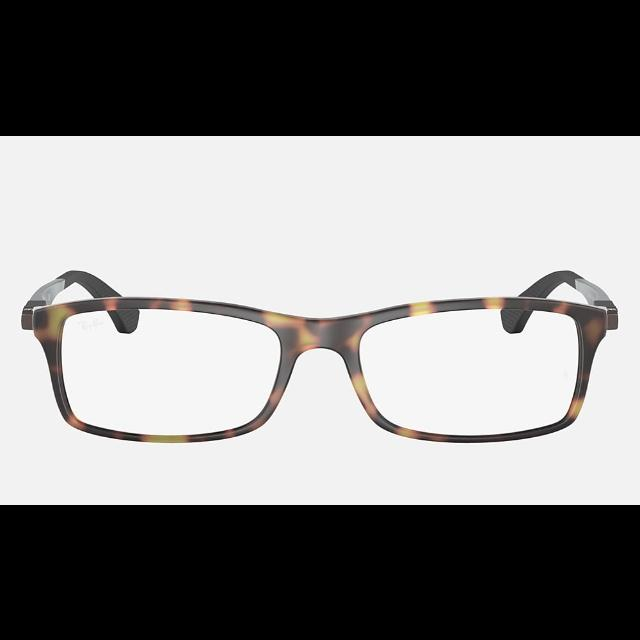Sunglasses: (21, 266, 618, 442)
